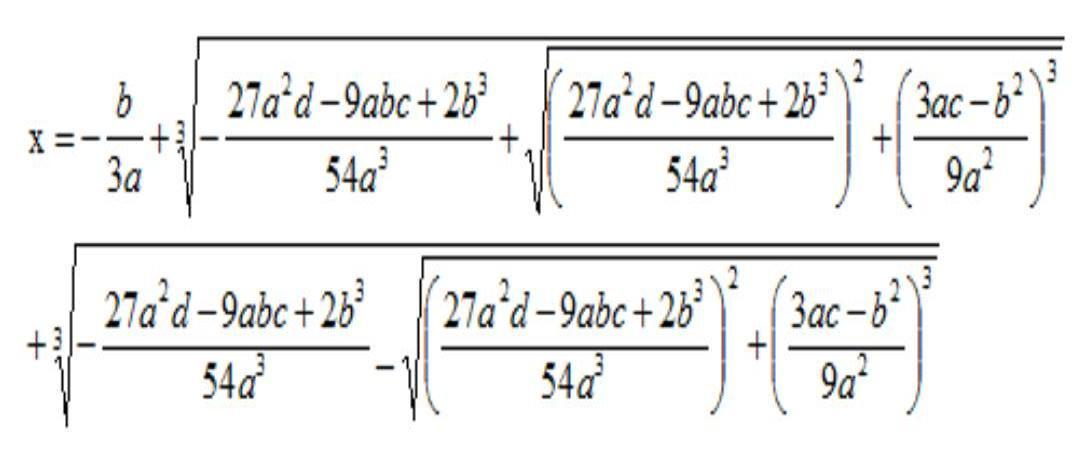cube: (373, 142, 393, 174), (254, 345, 272, 380), (687, 272, 705, 306), (473, 69, 491, 99), (1043, 54, 1059, 86), (719, 140, 733, 170), (593, 345, 605, 380), (920, 262, 931, 294), (353, 276, 366, 302), (818, 70, 830, 98)
division: (436, 340, 713, 355), (558, 130, 834, 145), (104, 342, 371, 354), (785, 340, 909, 358), (910, 127, 1031, 145)
square: (848, 57, 870, 88), (977, 139, 996, 173), (492, 276, 514, 304), (154, 279, 174, 307), (728, 262, 746, 291), (887, 274, 902, 308), (618, 69, 637, 95), (1010, 69, 1023, 101), (282, 66, 295, 97)
